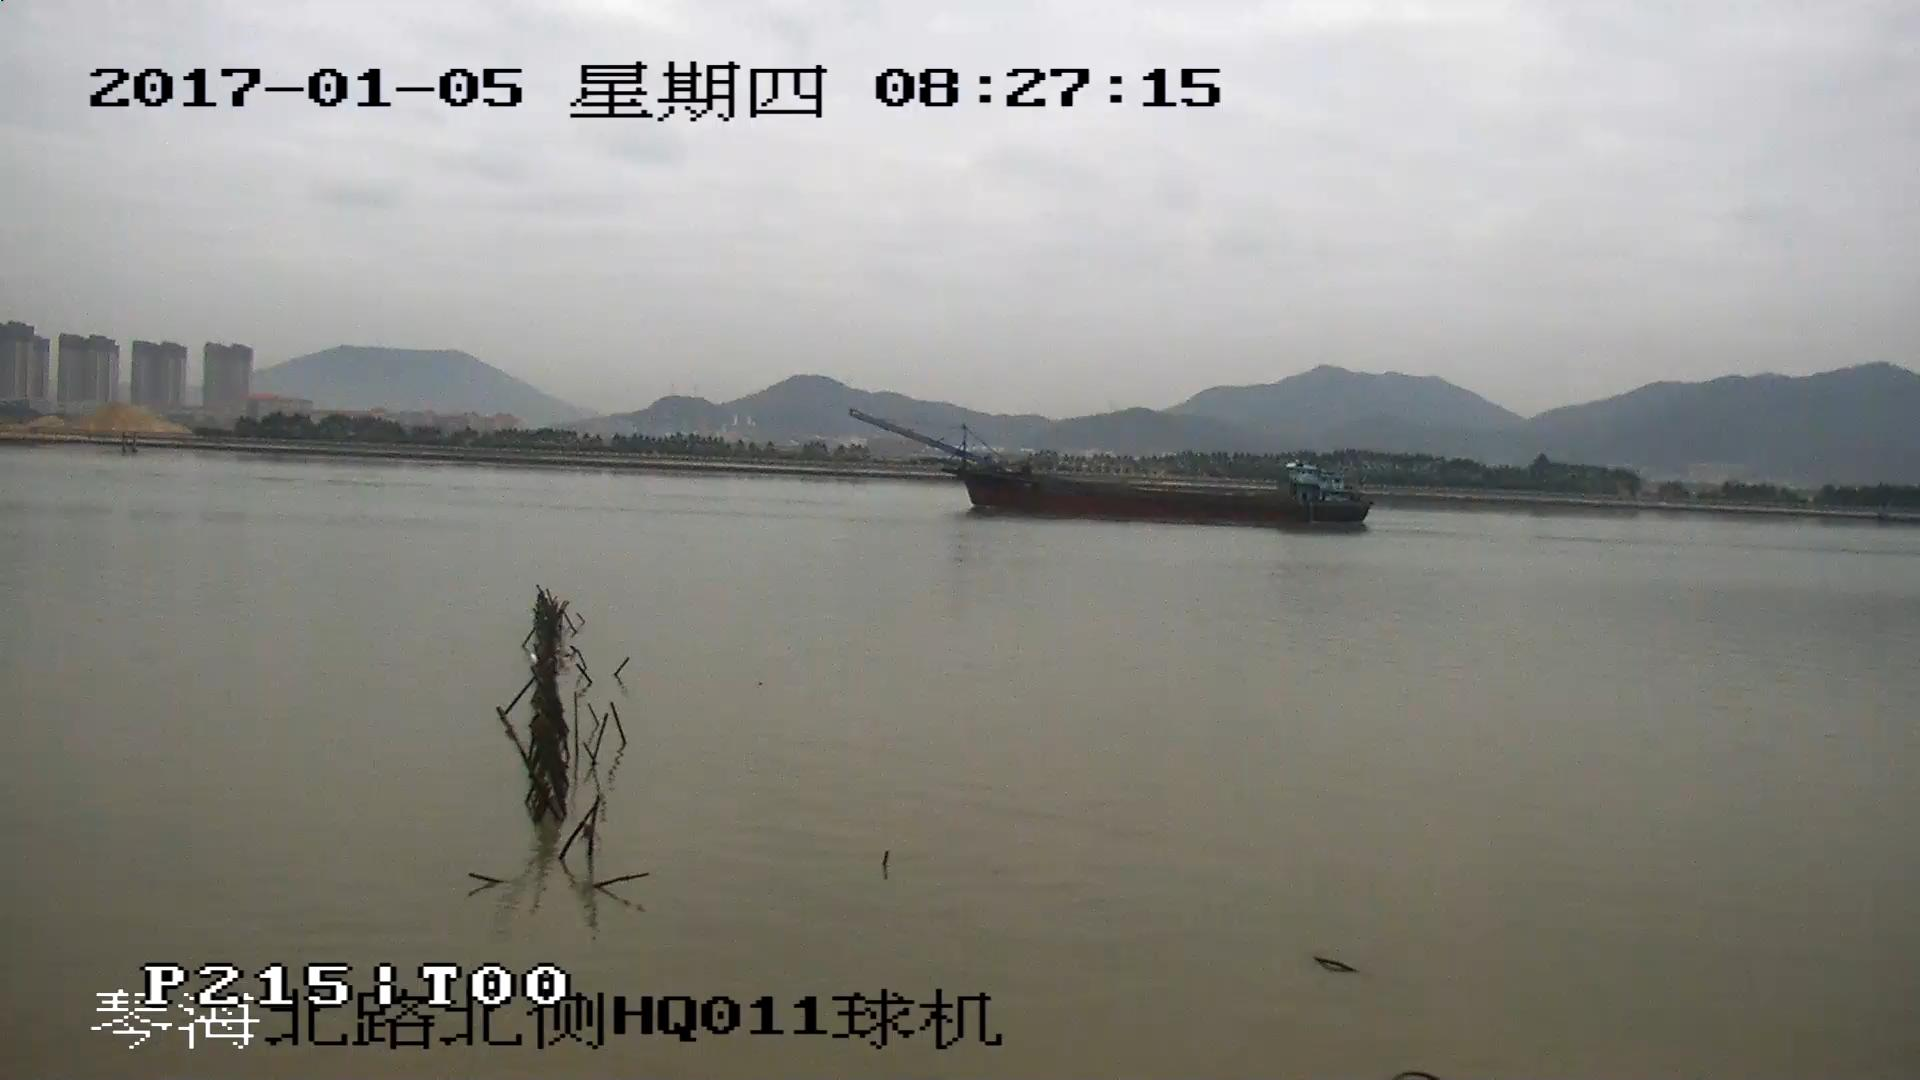bulk cargo carrier: (850, 411, 1366, 524)
